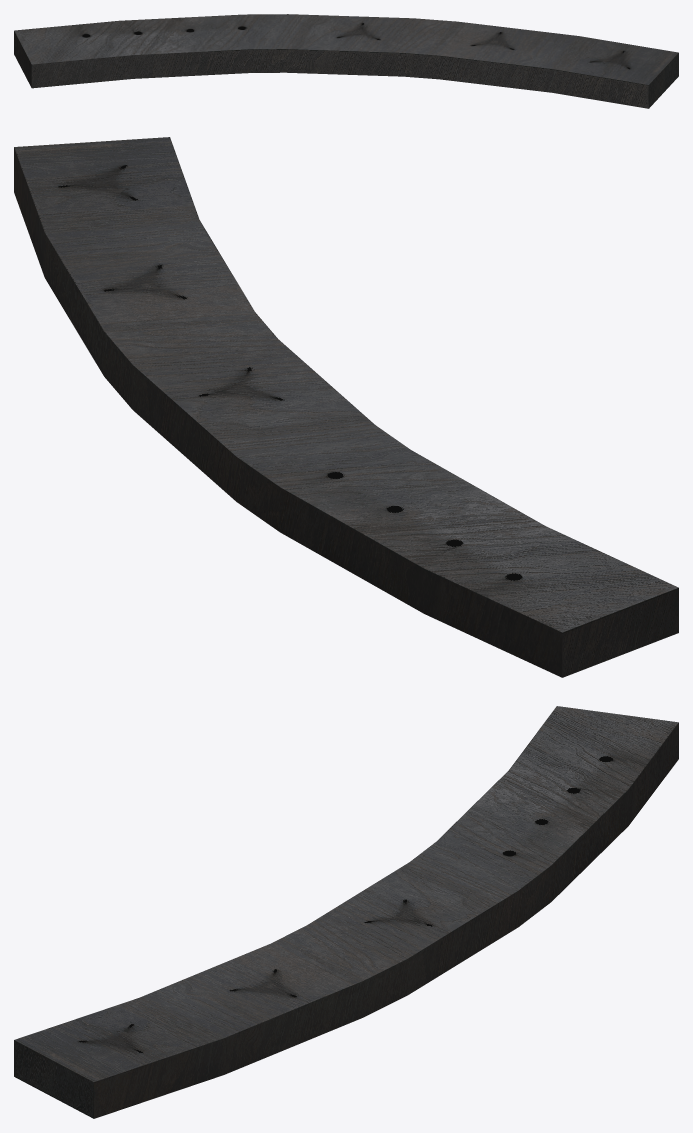
The model's file is Zone2Podium (4, 6.3, 0).glb.
The picture shows the model from 3 angles, top to bottom: view 1: azimuth 30°, elevation 25°; view 2: azimuth 150°, elevation 25°; view 3: azimuth 270°, elevation 25°; orthographic projection. The views are drawn at different scales.
Parts seen in each view (by area): view 1: Zone 2_Podium.001; view 2: Zone 2_Podium.001; view 3: Zone 2_Podium.001.
Part boxes in pixels (bbox=[...]): Zone 2_Podium.001: bbox=[14, 14, 678, 108]; Zone 2_Podium.001: bbox=[14, 137, 678, 677]; Zone 2_Podium.001: bbox=[14, 706, 678, 1118].
Bounding box in the file's own units: 6.6 × 0.3 × 4.93.
Materials: 1 (1 with a texture image).
